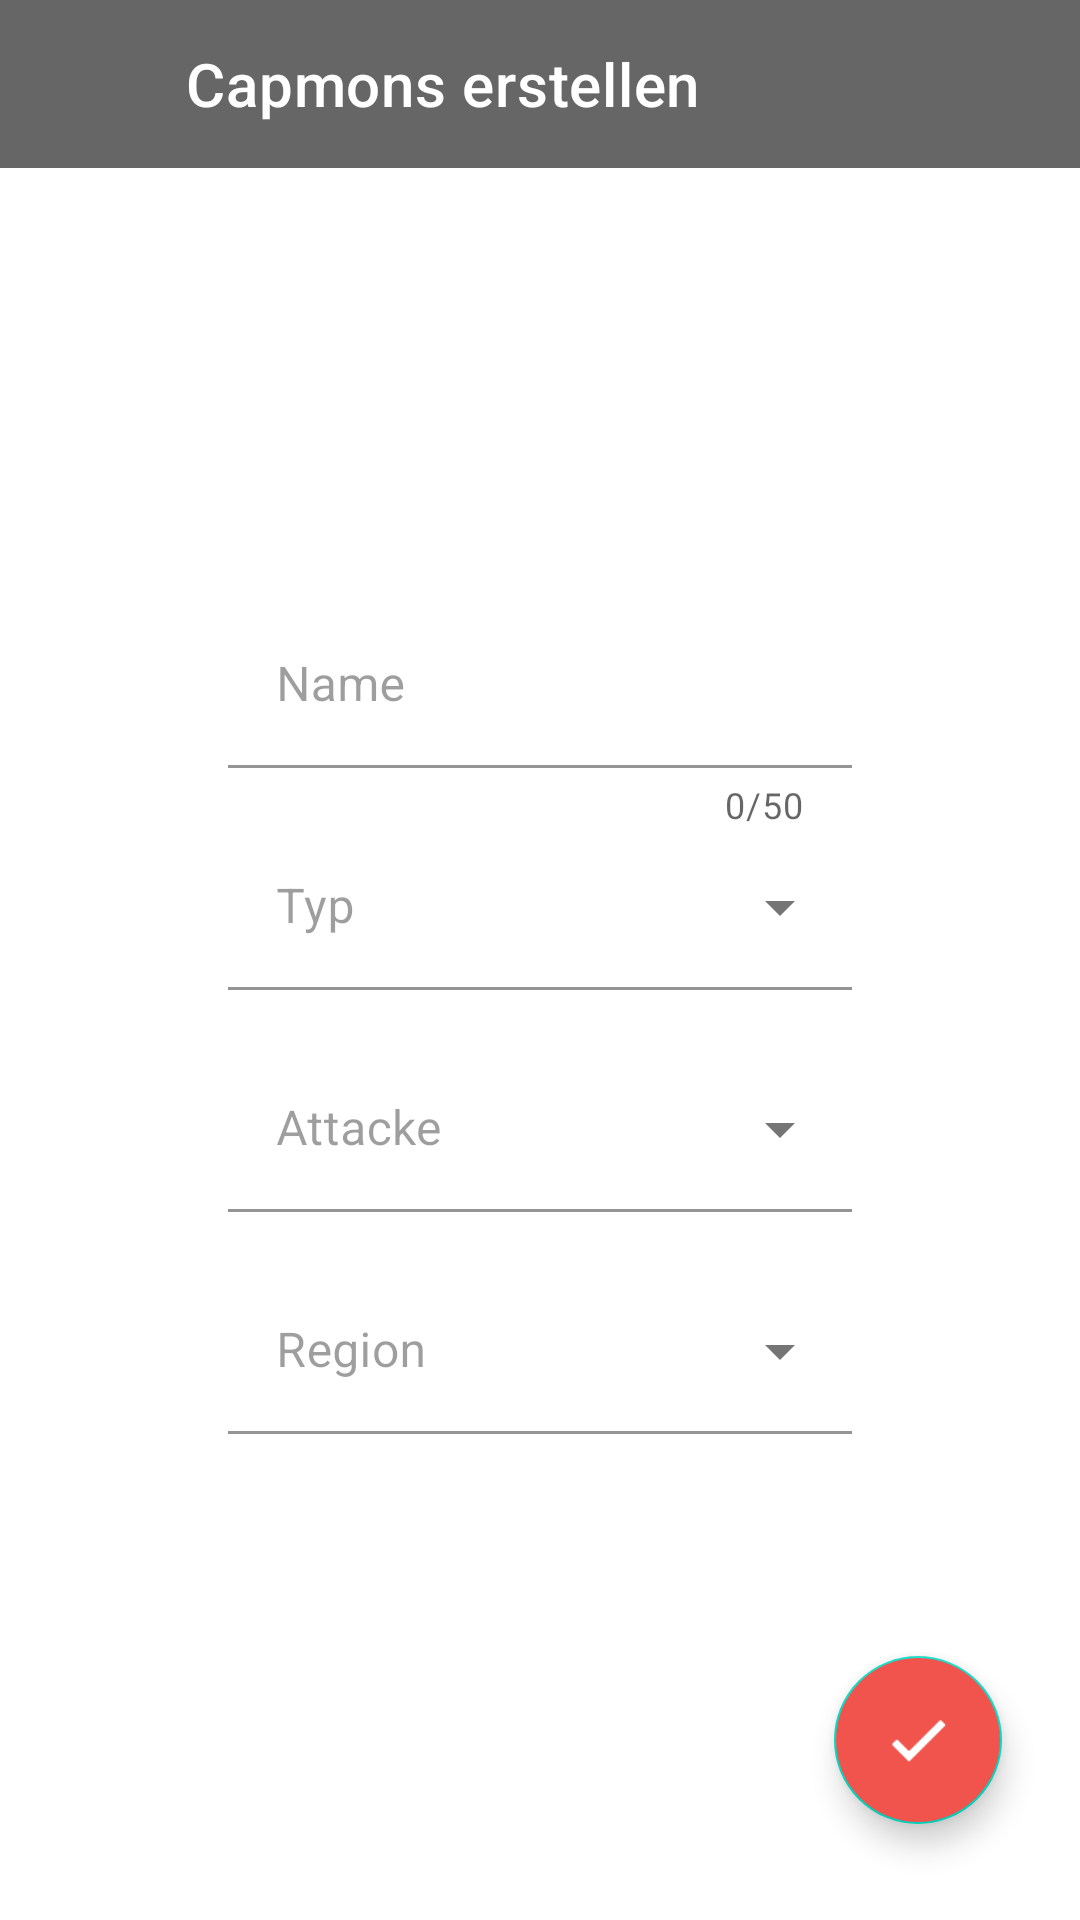

Where to tap for icons on this 1080x1920 app screen, as (x,y):
done: (918,1740)
